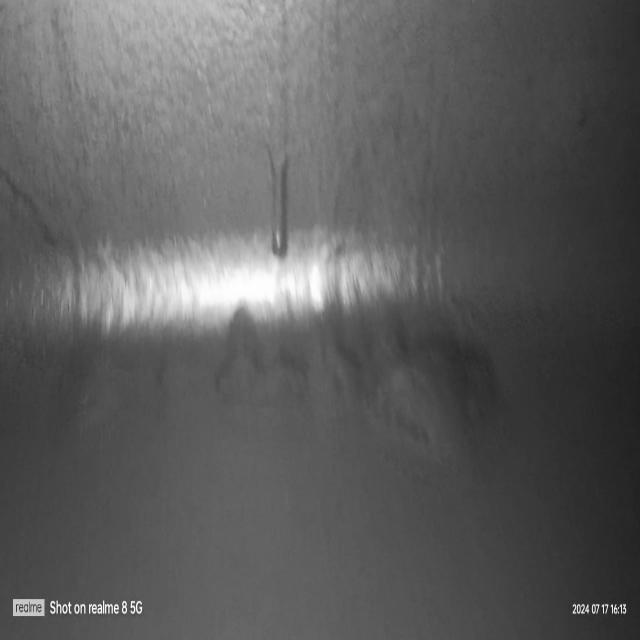paint drips: (255, 97, 298, 266)
